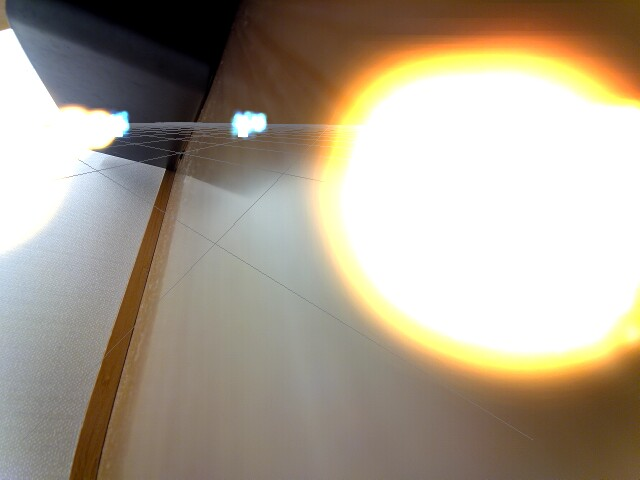fire: (320, 47, 637, 380)
